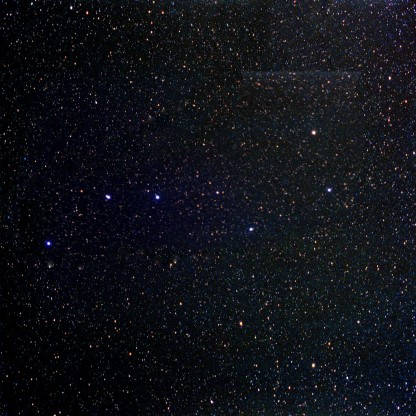Ursa Major: (315, 181, 341, 202), (144, 184, 166, 206), (97, 184, 117, 206), (240, 216, 259, 239), (38, 231, 57, 253), (302, 123, 323, 142), (209, 183, 226, 201)
